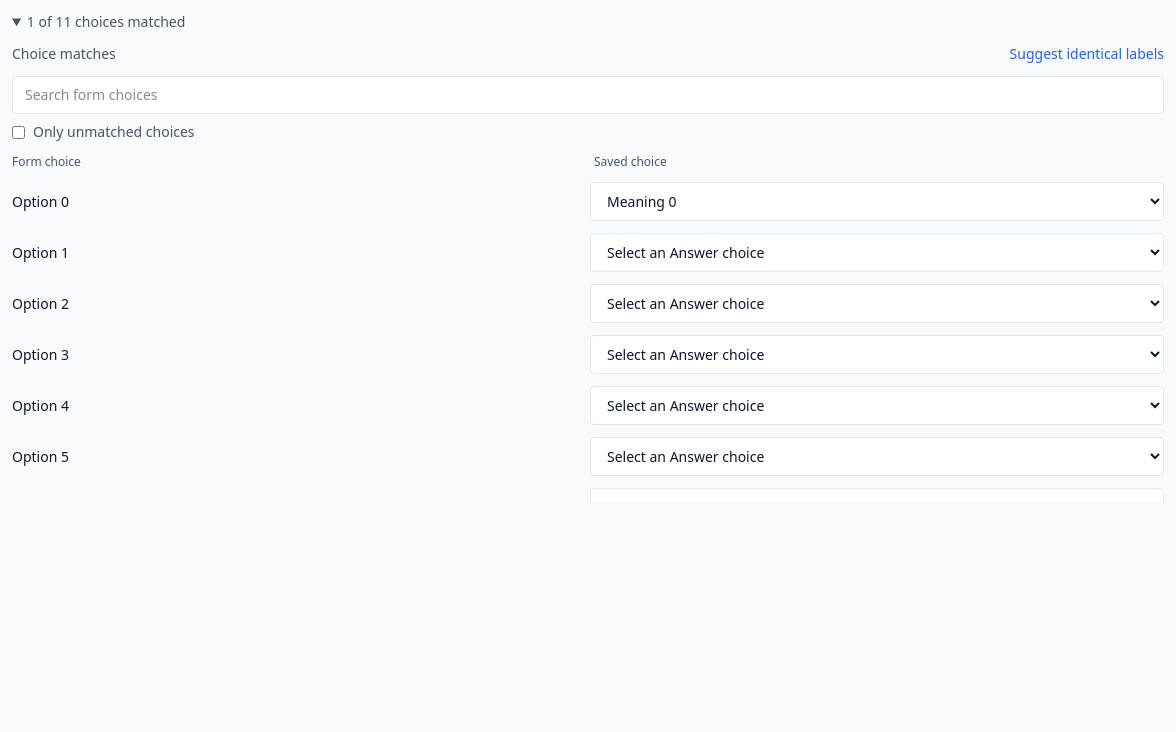
Scenario: OptionBindingEditor › opens incomplete option sets and makes missing matches searchable
Click the checkbox labelled "Only unmatched choices".
click(18, 132)  # box [12, 126, 25, 138]
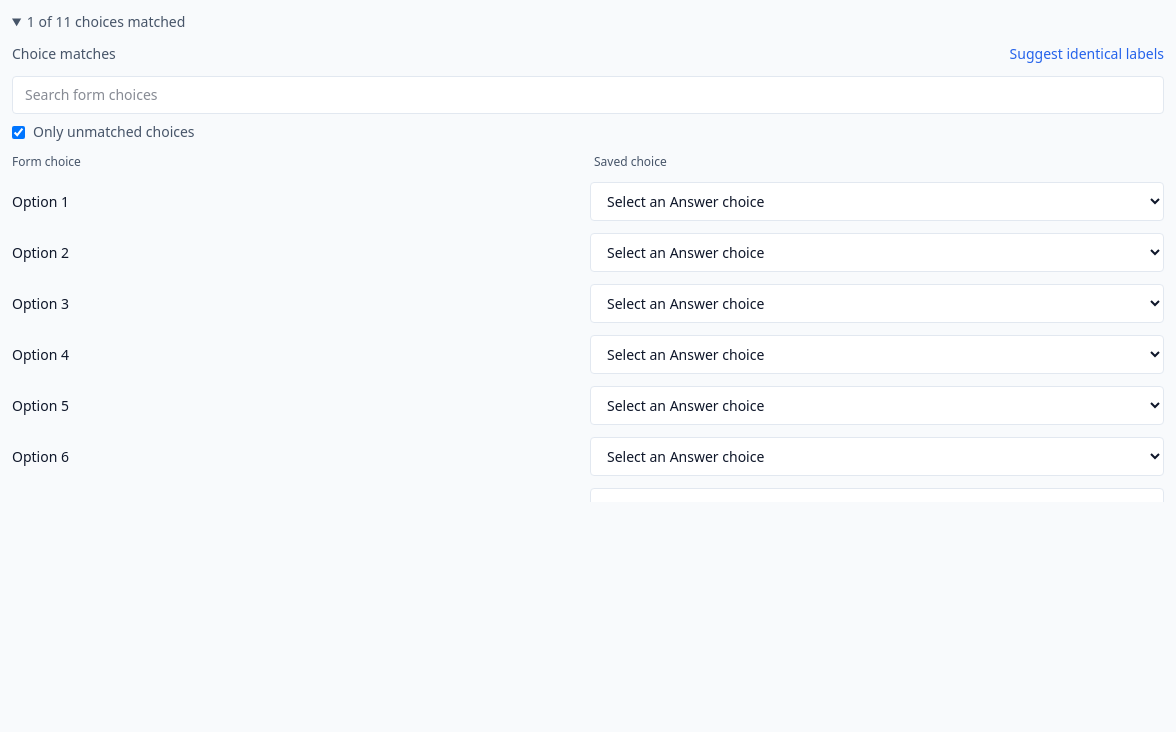
Type "Option 3" into the search field labelled "Search form choices".
click(588, 95); type("Option 3")  # box [12, 76, 1164, 114]
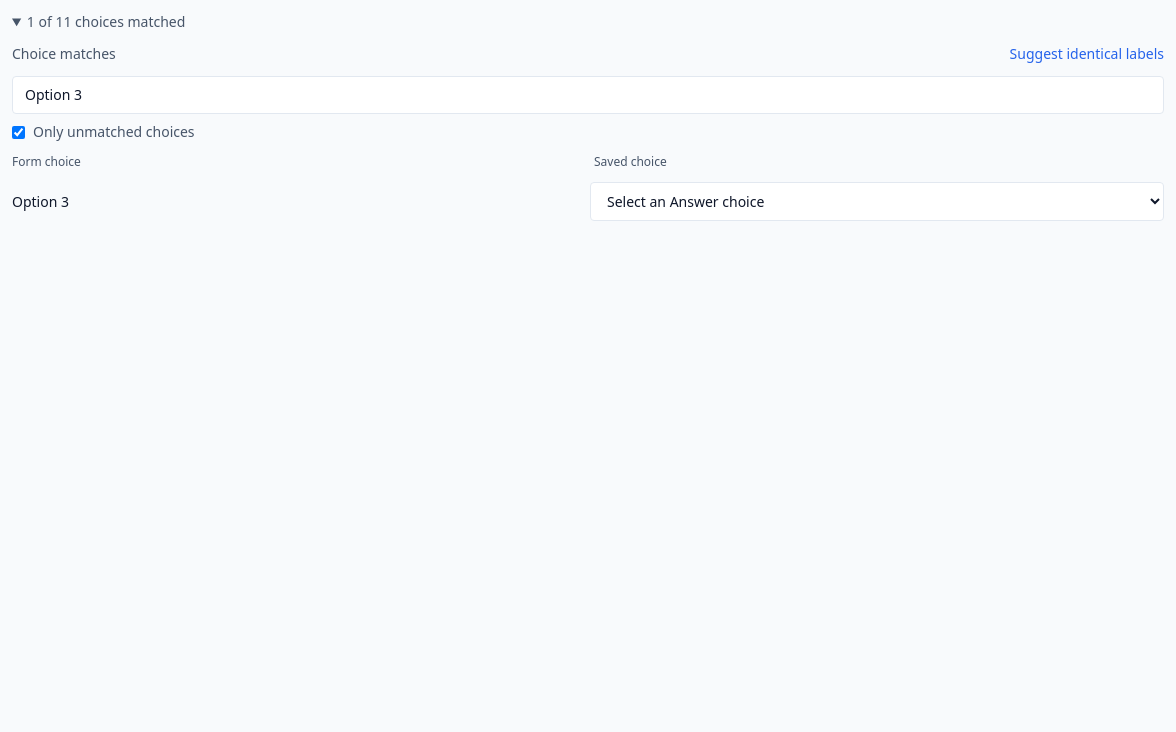
expect the number of dropdowns is 1: met, box [590, 182, 1164, 221]
